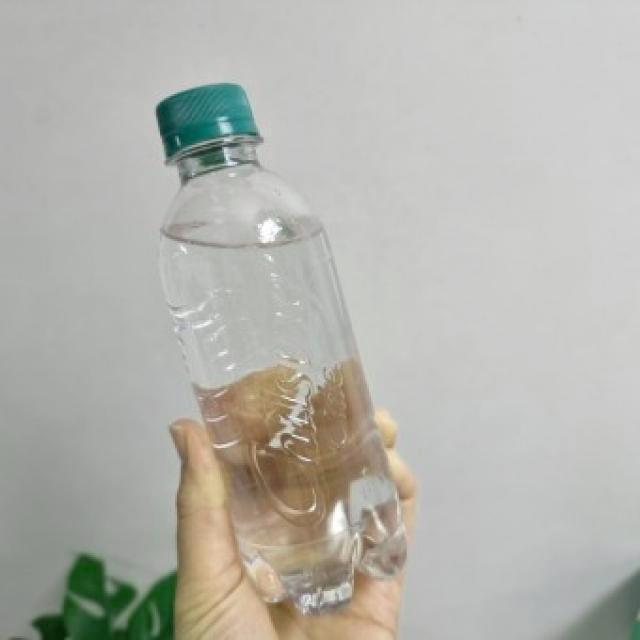bottle: (155, 83, 407, 616)
